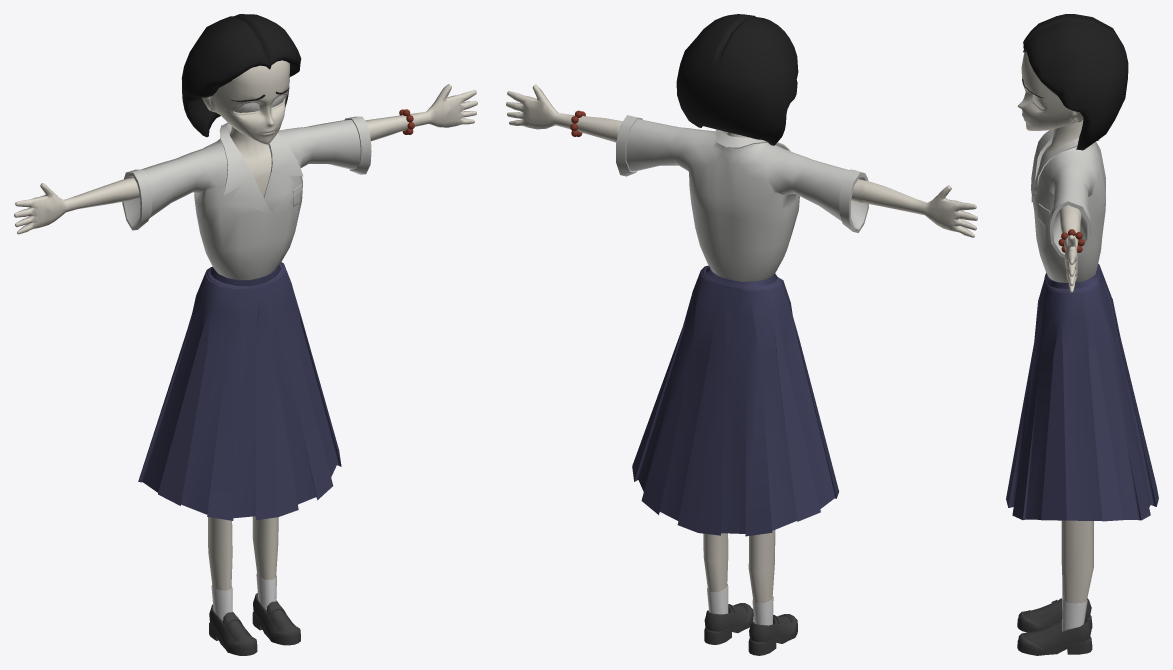
File: sister.fbx
The picture shows the model from 3 angles, left to right: view 1: azimuth 30°, elevation 25°; view 2: azimuth 150°, elevation 25°; view 3: azimuth 270°, elevation 25°; orthographic projection.
Visible parts, largest first — view 1: skirt, shirt, body, hair, face, shoe_L, shoe_R; view 2: skirt, shirt, hair, body, shoe_L, shoe_R; view 3: skirt, hair, shirt, body, face, shoe_L, shoe_R, socks_L, shoe_R02, hair_tie, shoe_L02.
Part boxes in pixels (x1,y1,x2,y2): skirt: [138, 262, 341, 520]; shirt: [122, 116, 371, 279]; body: [14, 84, 477, 590]; hair: [181, 14, 301, 137]; face: [202, 60, 289, 144]; shoe_L: [252, 593, 300, 645]; shoe_R: [209, 604, 257, 655]; skirt: [632, 265, 839, 536]; shirt: [616, 115, 868, 281]; hair: [676, 14, 798, 145]; body: [506, 84, 977, 603]; shoe_L: [704, 603, 753, 644]; shoe_R: [748, 614, 797, 655]; skirt: [1006, 264, 1158, 521]; hair: [1023, 14, 1128, 150]; shirt: [1031, 129, 1105, 282]; body: [1039, 120, 1093, 603]; face: [1017, 52, 1083, 130]; shoe_L: [1017, 618, 1092, 655]; shoe_R: [1017, 598, 1092, 632]; socks_L: [1062, 598, 1087, 631]; shoe_R02: [1030, 598, 1061, 619]; hair_tie: [1058, 229, 1084, 252]; shoe_L02: [1030, 620, 1061, 640].
Size of the model in its own units: 1.54 by 1.95 by 0.4365.
